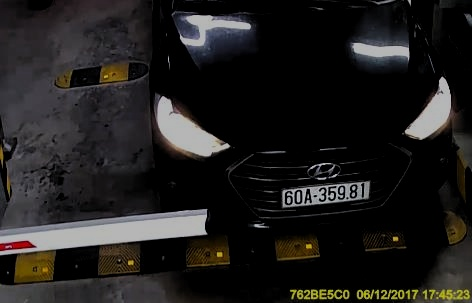plate: (283, 177, 371, 208)
